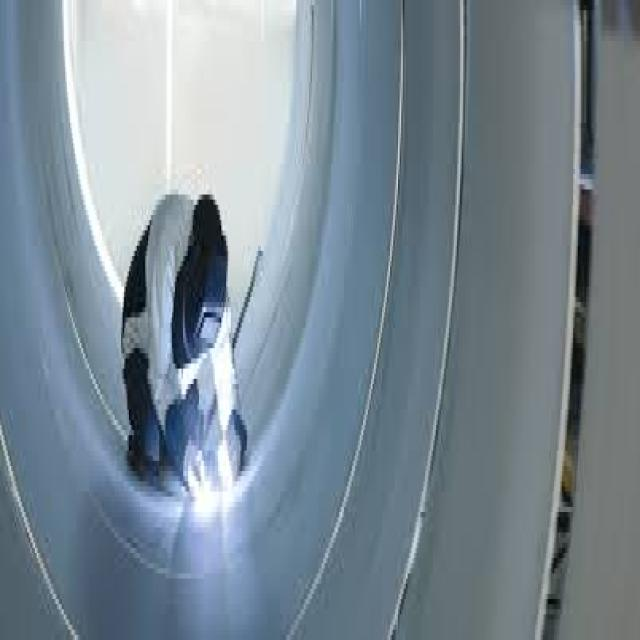welding: (194, 477, 213, 516)
